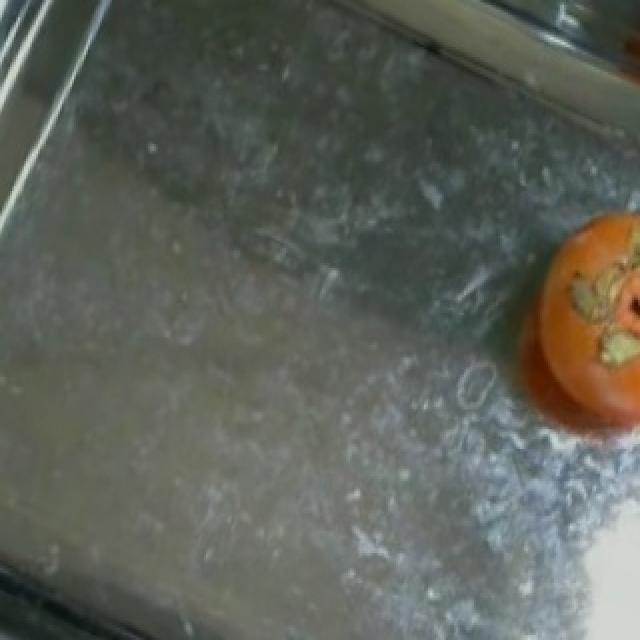Fruit: (488, 198, 638, 472)
